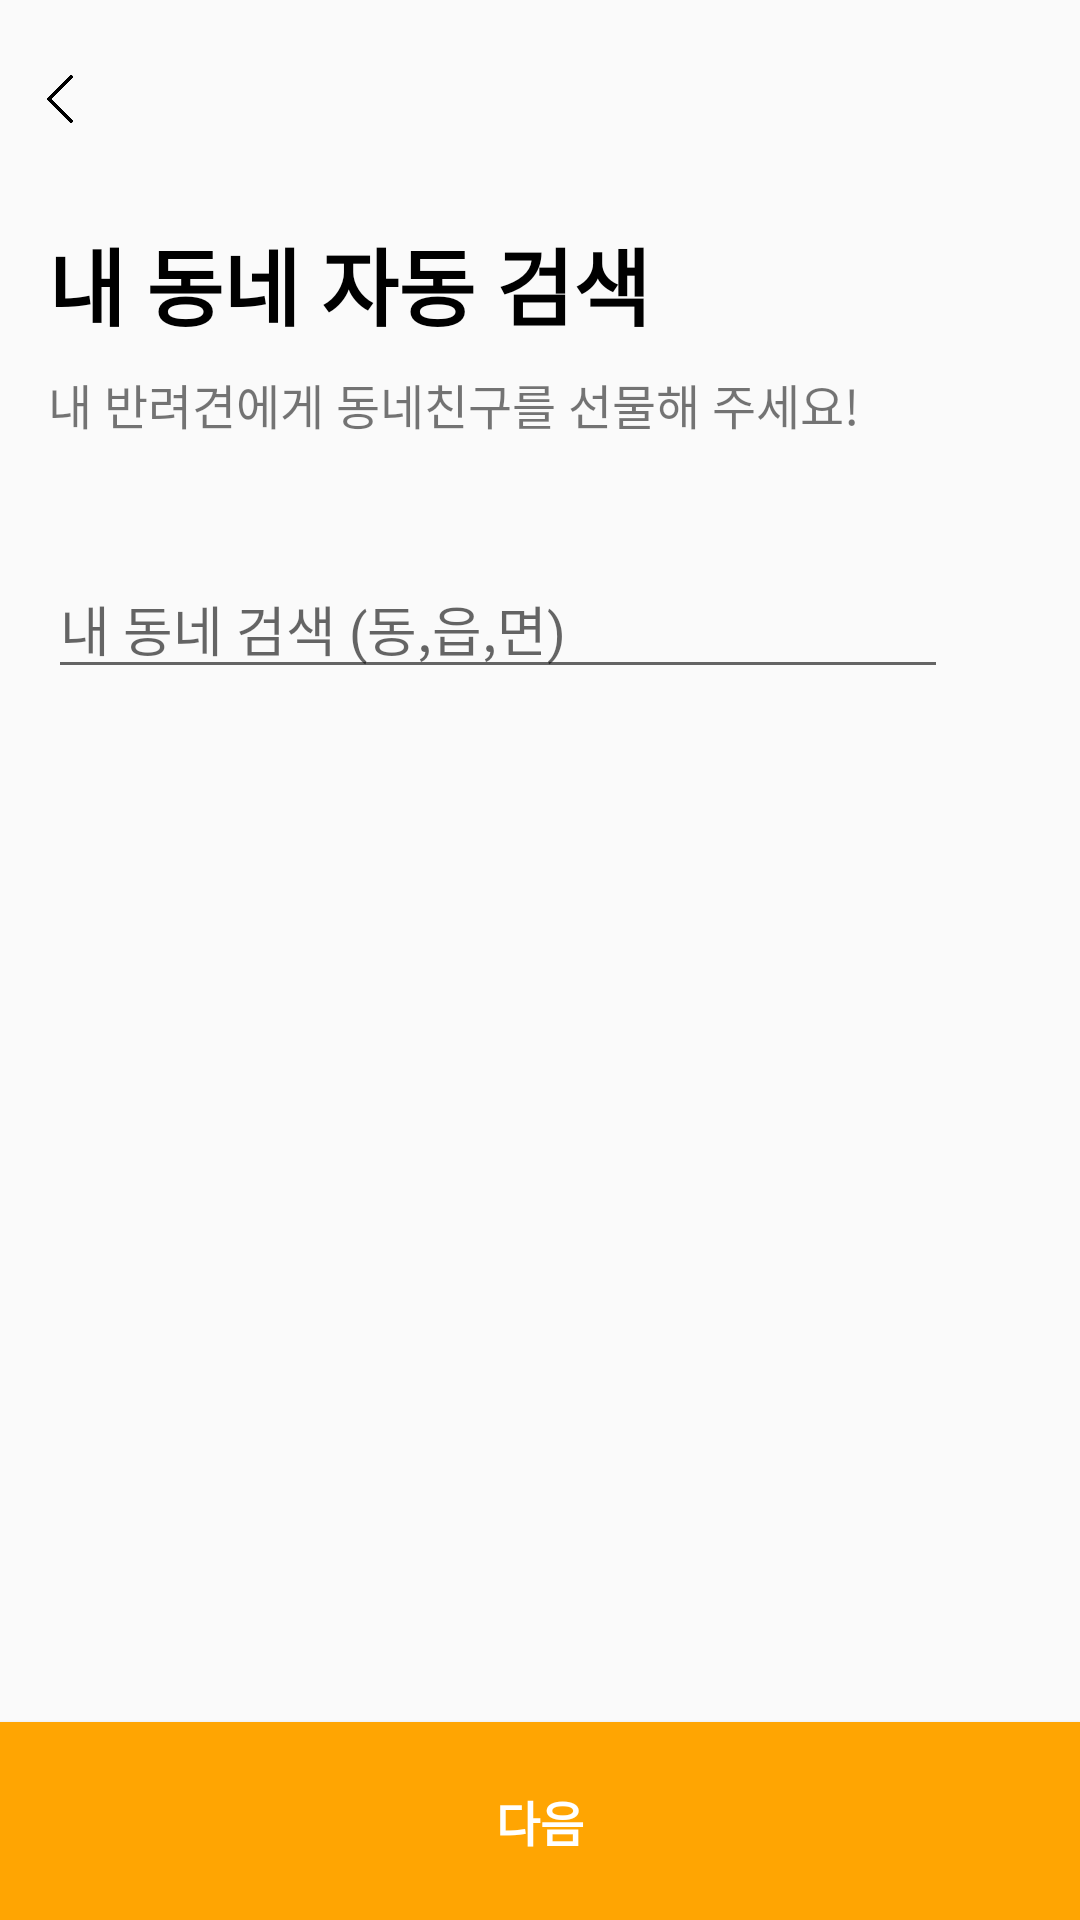

Icon bounding boxes for this 1080 x 1920 phone screenshot, format bbox=(x1, y1, x2, y2):
back: bbox=(47, 75, 73, 123)
